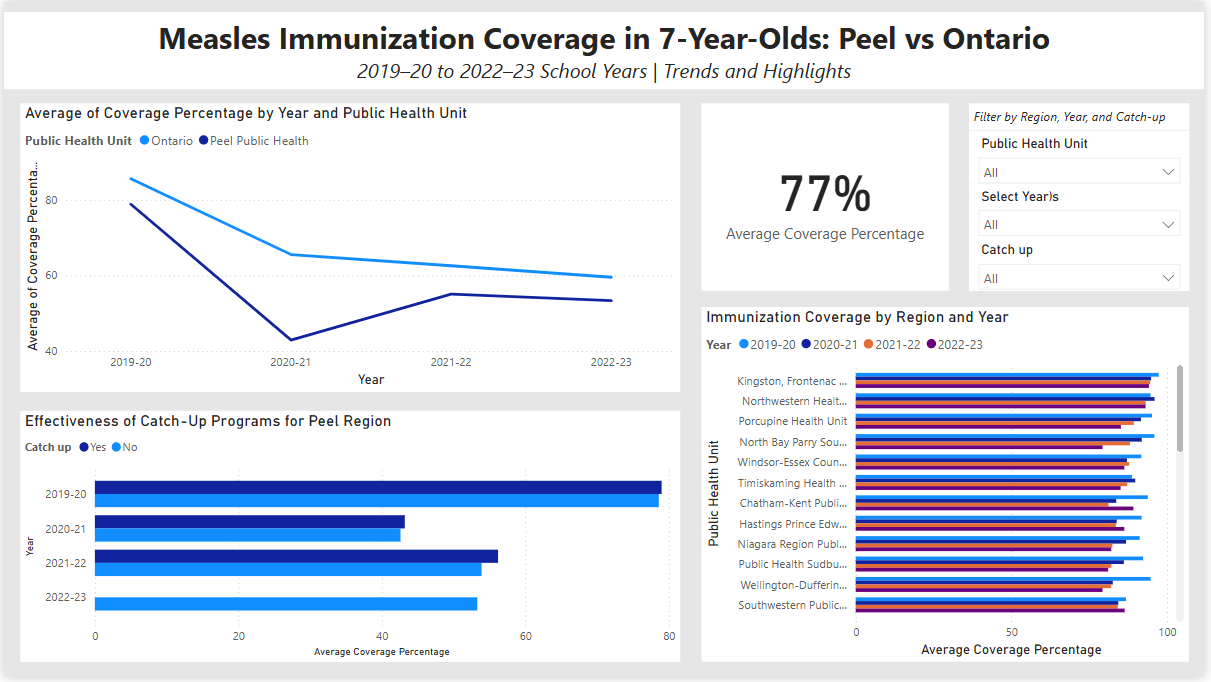

The dashboard page shown, as its layout file describes it:
{"tool":"powerbi","page":{"name":"Page 1","canvas":[1280,720],"ordinal":0},"visuals":[{"type":"lineChart","fields":{"Y":["Avg(Cleaned_data.Coverage %)"],"Category":["Cleaned_data.Year"],"Series":["Cleaned_data.Public Health Unit"]},"box":[17.3,108,704,308],"z":0},{"type":"clusteredBarChart","title":" Effectiveness of Catch-Up Programs for Peel Region","fields":{"Y":["Avg(Cleaned_data.Coverage %)"],"Series":["Cleaned_data.Catch up"],"Category":["Cleaned_data.Year"]},"box":[17.3,436,704,268],"z":1000},{"type":"textbox","box":[0,10,1280,82.5],"z":2000},{"type":"card","fields":{"Values":["Cleaned_data.Formatted Coverage"]},"box":[744,108,264,200],"z":3000},{"type":"slicer","title":"Select Region(s)","fields":{"Values":["Cleaned_data.Public Health Unit"]},"box":[1028.8,136.3,235.4,56],"z":3000,"group":"g1"},{"type":"clusteredBarChart","title":"Immunization Coverage by Region and Year","fields":{"Series":["Cleaned_data.Year"],"Y":["Avg(Cleaned_data.Coverage %)"],"Category":["Cleaned_data.Public Health Unit"]},"box":[743.8,325,520,378.8],"z":4000},{"type":"group","id":"g1","title":"Group 1","box":[1028.8,136.3,235,171.2],"z":5000,"group":"g2"},{"type":"slicer","title":"Select Year(s)","fields":{"Values":["Cleaned_data.Year"]},"box":[1028.8,192.3,235.4,57.8],"z":5000,"group":"g1"},{"type":"textbox","box":[1028.8,107.5,235,28.8],"z":6000,"group":"g2"},{"type":"group","id":"g2","title":"Group 2","box":[1028.8,107.5,235,200],"z":6001},{"type":"slicer","fields":{"Values":["Cleaned_data.Catch up"]},"box":[1028.8,250.1,235.4,57.8],"z":7000,"group":"g1"}]}

Visuals, with their boxes in screenshot pixels (x1, y1, x2, y2), scaled from the page's 1280x720 canvas onto the 1211x682 screenshot:
lineChart - Avg(Cleaned_data.Coverage %) x Cleaned_data.Year: pyautogui.locateOnScreen(16, 102, 682, 394)
" Effectiveness of Catch-Up Programs for Peel Region" clusteredBarChart: pyautogui.locateOnScreen(16, 413, 682, 667)
textbox: pyautogui.locateOnScreen(0, 9, 1210, 88)
card - Cleaned_data.Formatted Coverage: pyautogui.locateOnScreen(704, 102, 954, 292)
"Select Region(s)" slicer: pyautogui.locateOnScreen(973, 129, 1196, 182)
"Immunization Coverage by Region and Year" clusteredBarChart: pyautogui.locateOnScreen(704, 308, 1196, 667)
"Group 1" group: pyautogui.locateOnScreen(973, 129, 1196, 291)
"Select Year(s)" slicer: pyautogui.locateOnScreen(973, 182, 1196, 237)
textbox: pyautogui.locateOnScreen(973, 102, 1196, 129)
"Group 2" group: pyautogui.locateOnScreen(973, 102, 1196, 291)
slicer - Cleaned_data.Catch up: pyautogui.locateOnScreen(973, 237, 1196, 292)
